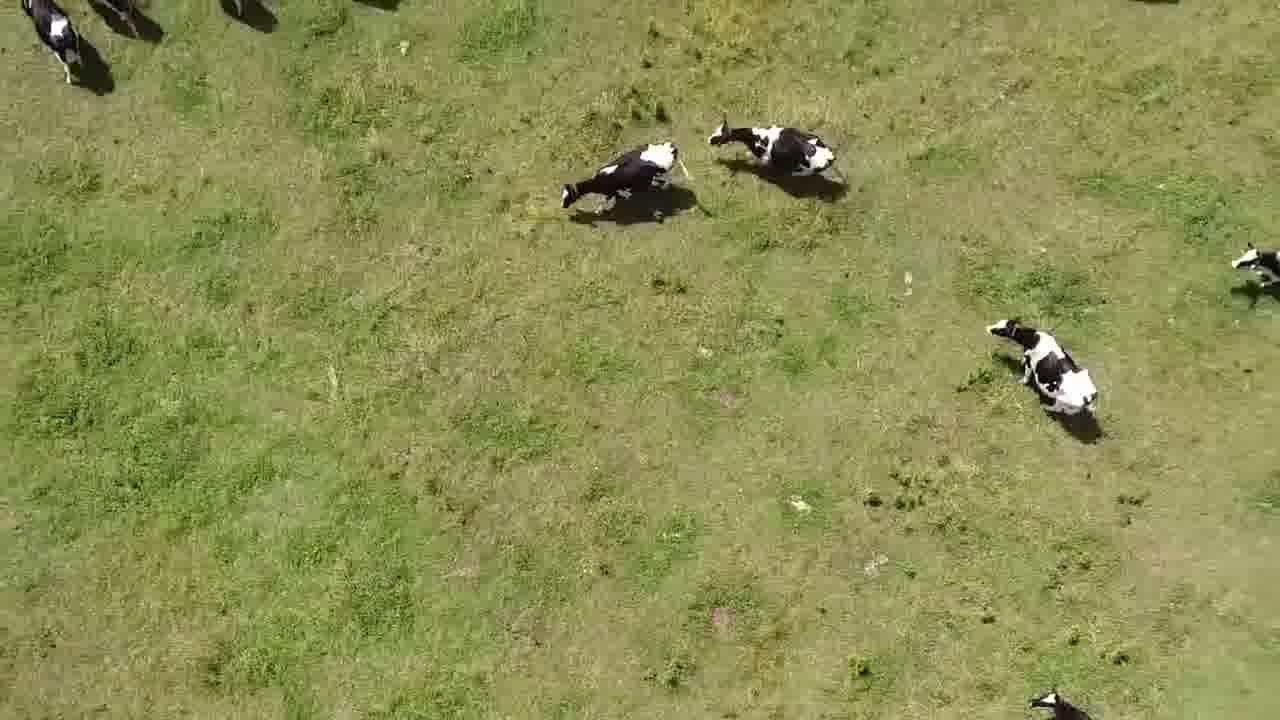cow: (978, 310, 1102, 424), (703, 114, 845, 189), (553, 134, 683, 215), (10, 0, 92, 89), (1220, 235, 1280, 294), (1026, 684, 1094, 720), (100, 0, 153, 43)
